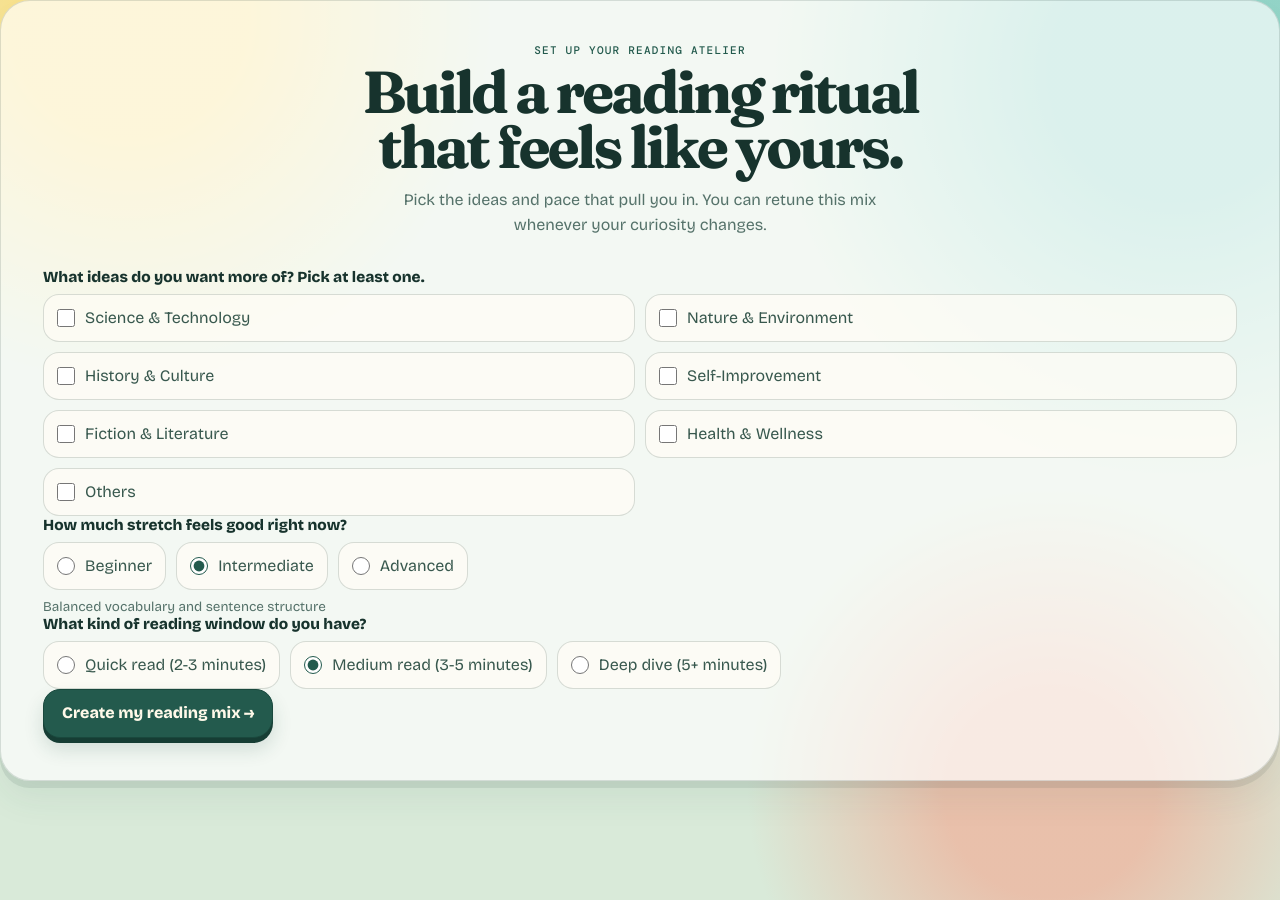
PreferenceForm › requires at least one genre before submitting
The image size is (1280, 900).
Click the button "Create my reading mix →". click: [158, 713]
box: 43,689 -> 273,738
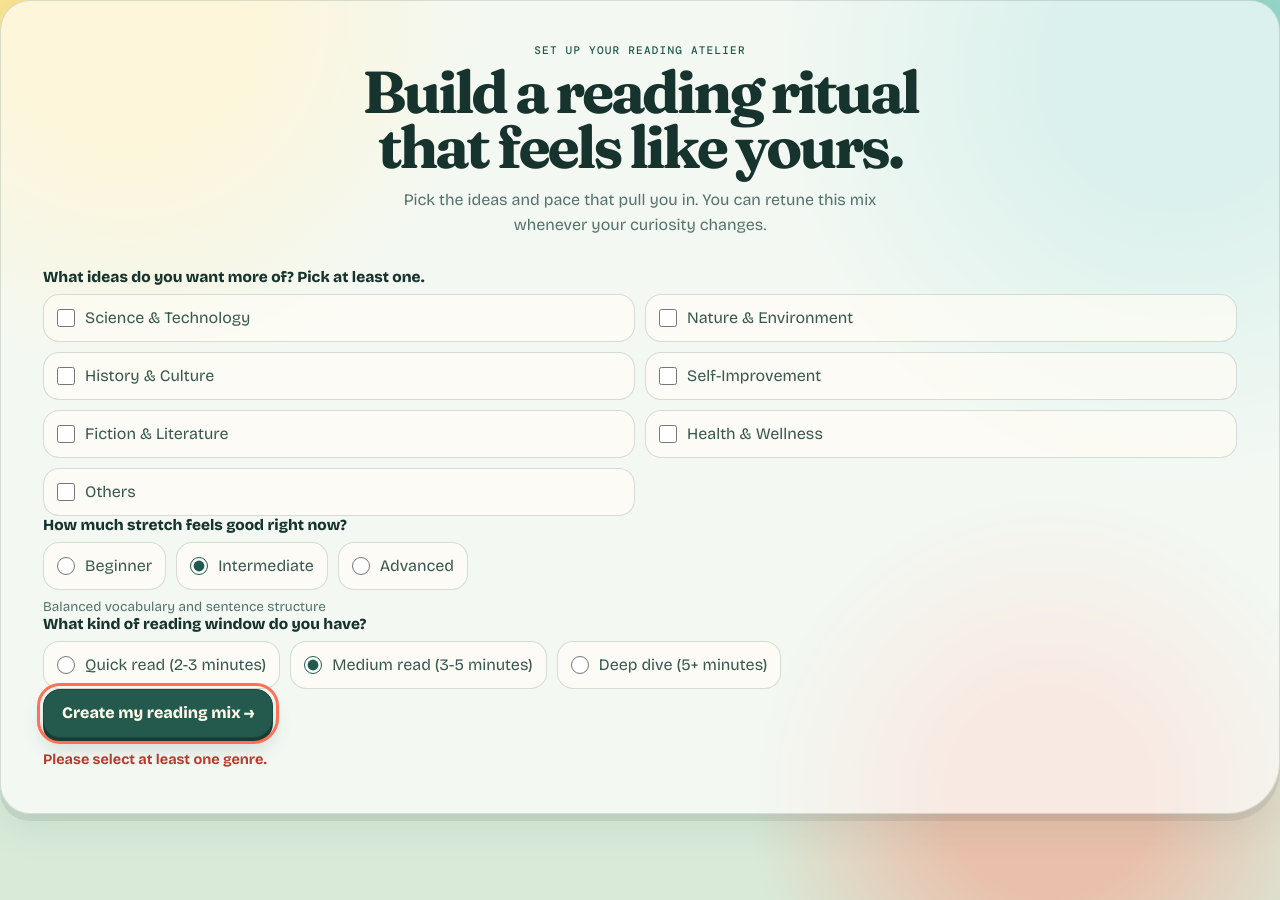
Expected: the message reads "Please select at least one genre.", 43,751 -> 267,768
